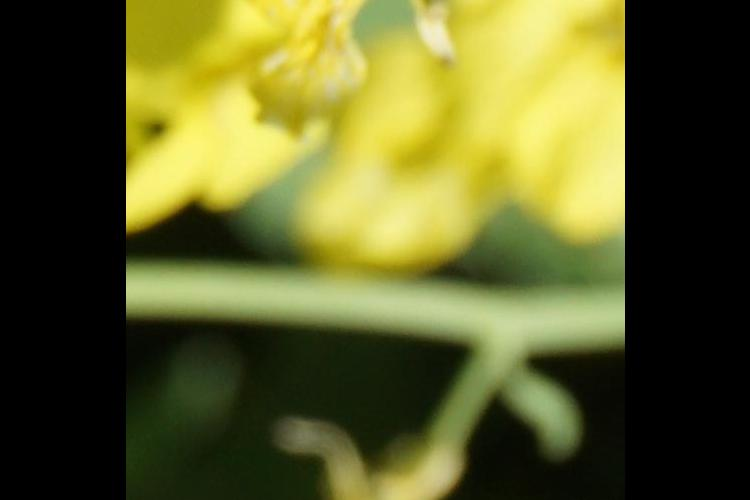yellow: (207, 1, 424, 142)
